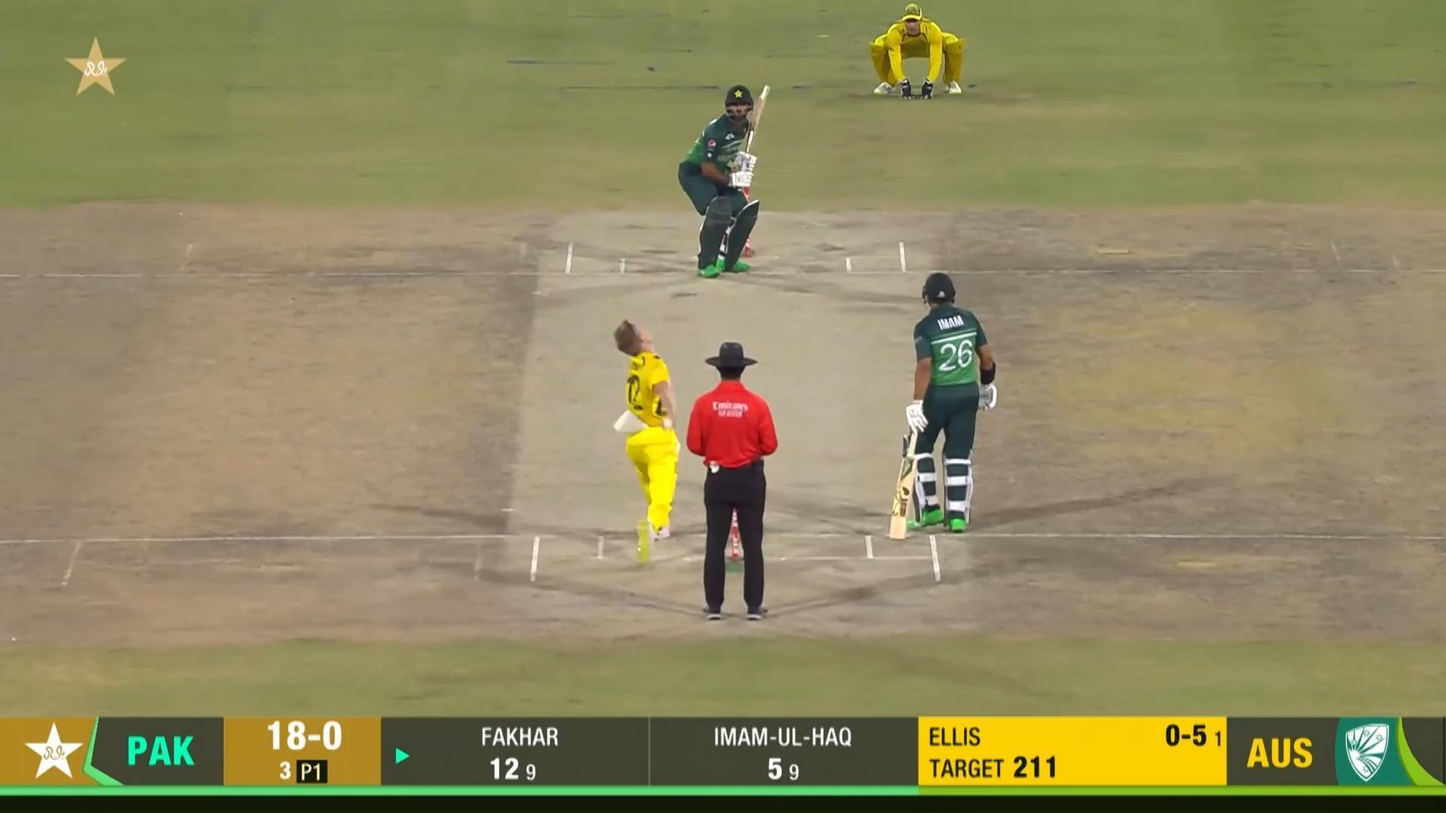BM 1: (677, 83, 771, 279)
BO: (614, 319, 679, 564)
